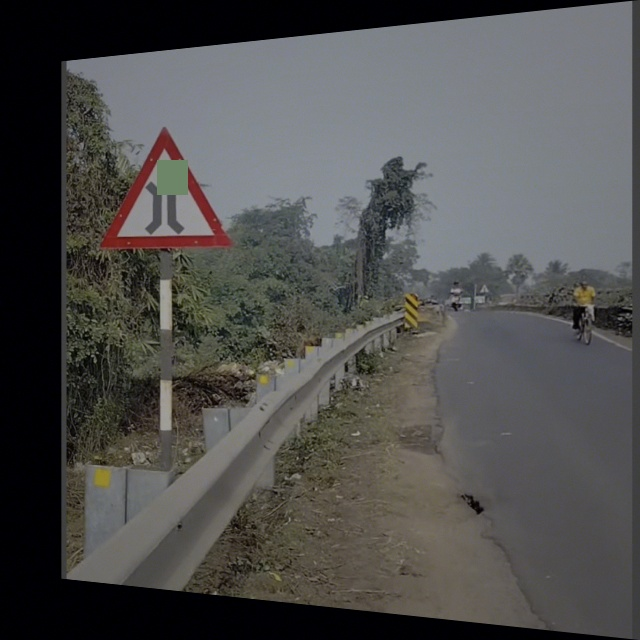Narrow_Bridge: (105, 125, 226, 246)
